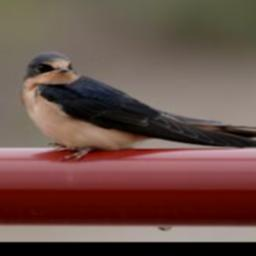Swallow: (20, 47, 256, 167)
